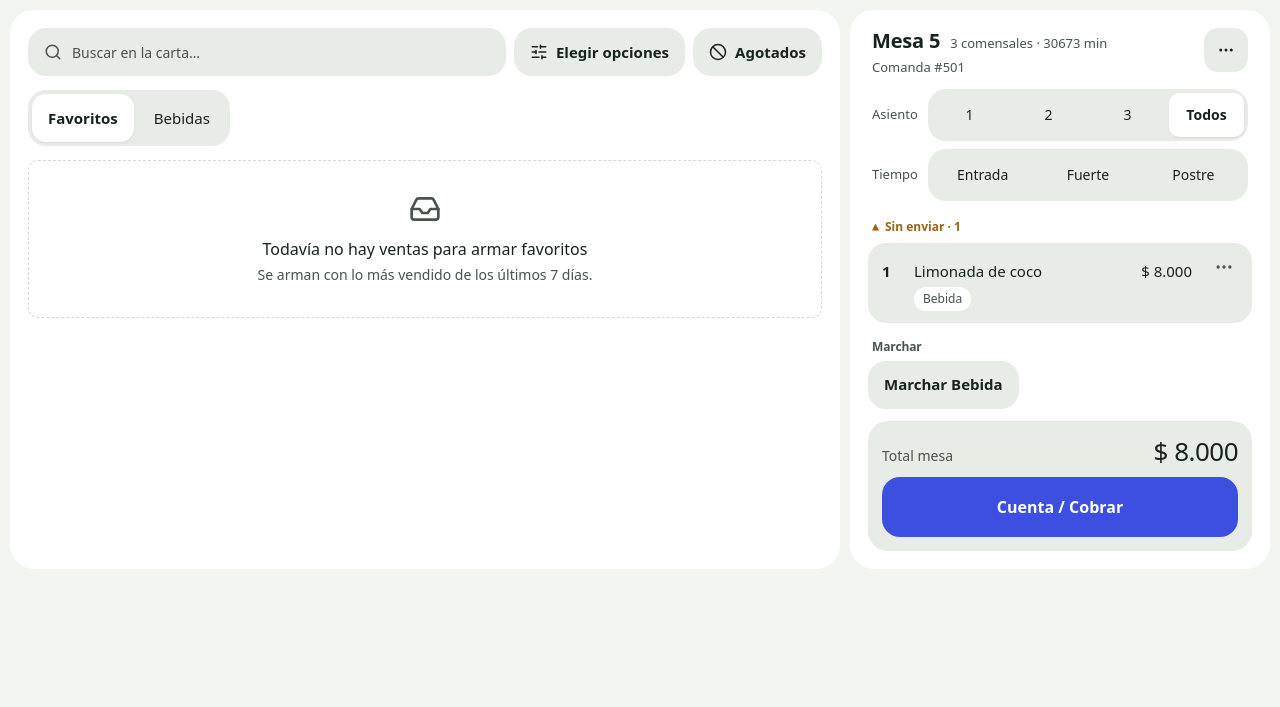
it: OrderPage › toque en la carta › con asiento y curso elegidos, el toque suma el plato a ESE asiento y curso, y la línea queda elegida
Click the button "2" at (1048, 115), box [1011,93,1086,137]
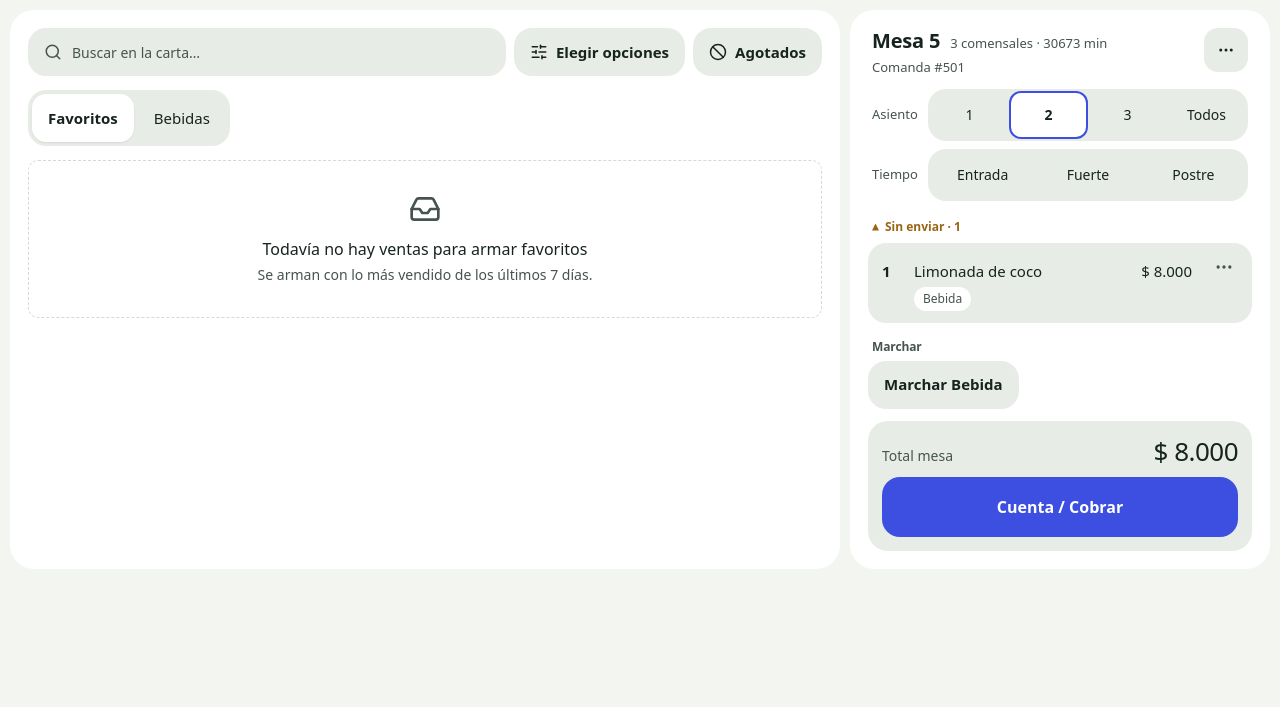
Click the button "Postre" at (1193, 175), box [1143,153,1244,197]
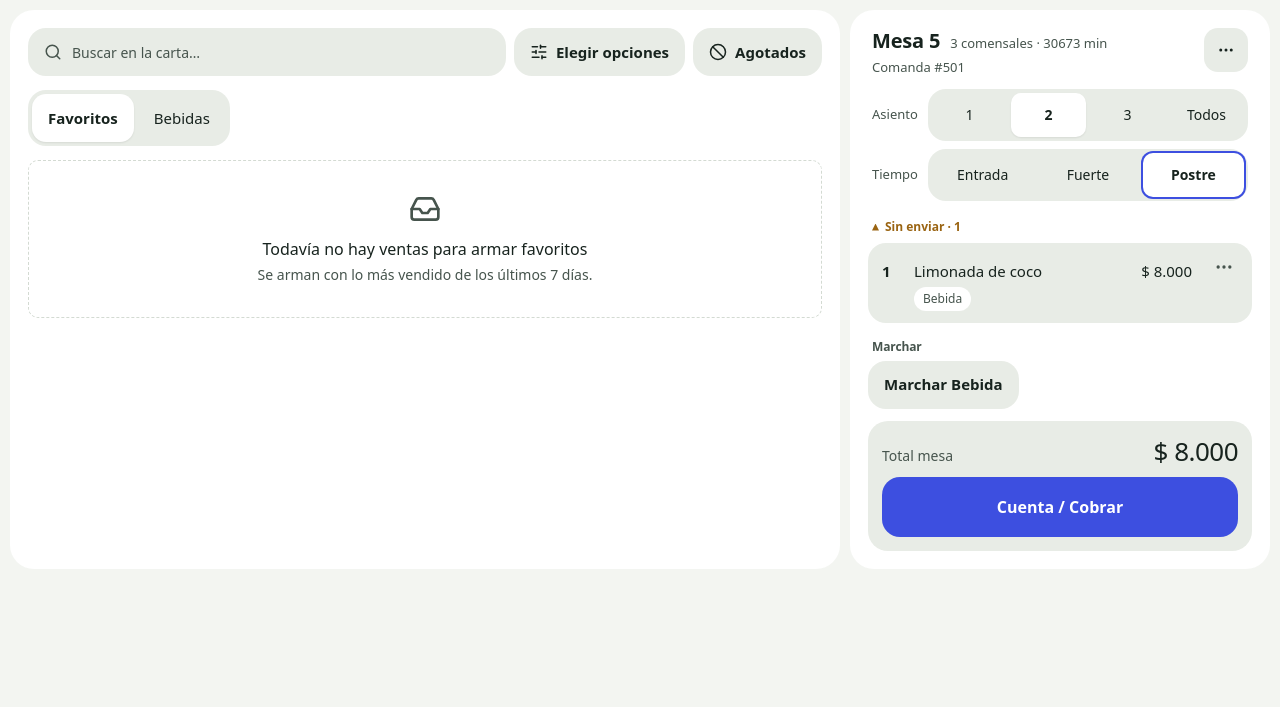
Click the button "Bebidas" at (182, 118), box [138,94,226,142]
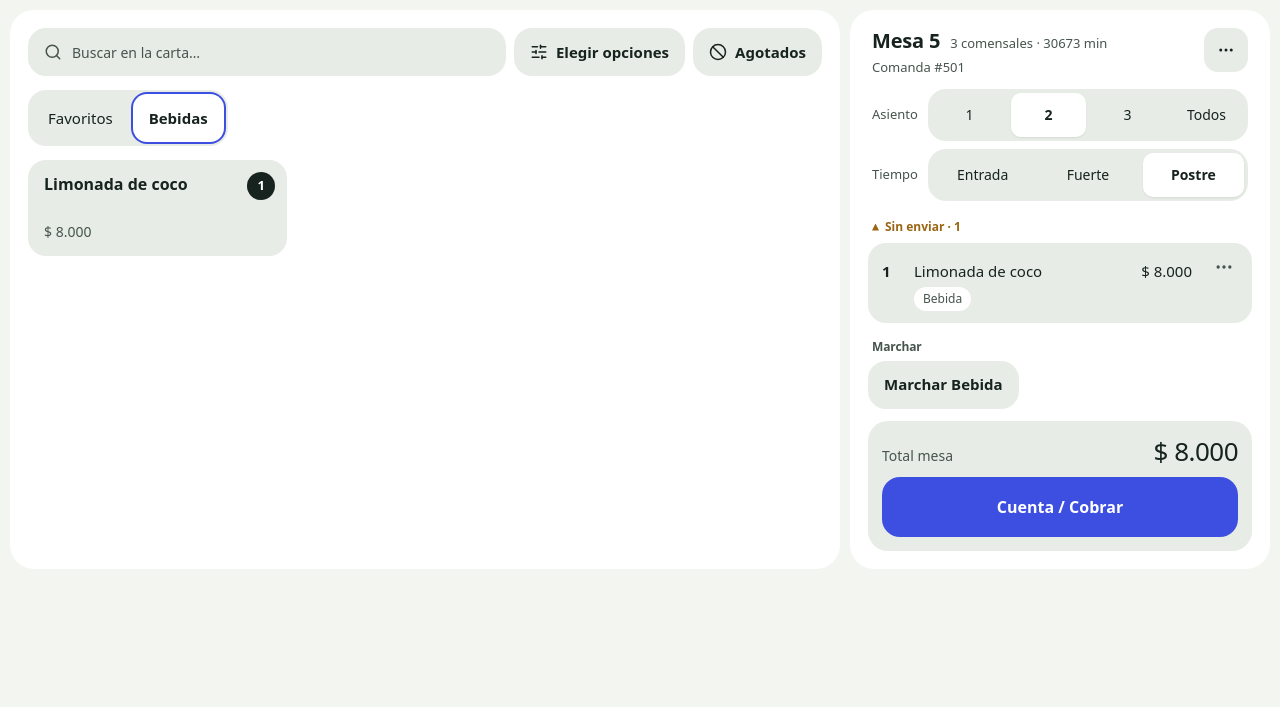
Click the button with aria-label "agregar limonada de coco" at (158, 208), box [28,160,287,256]
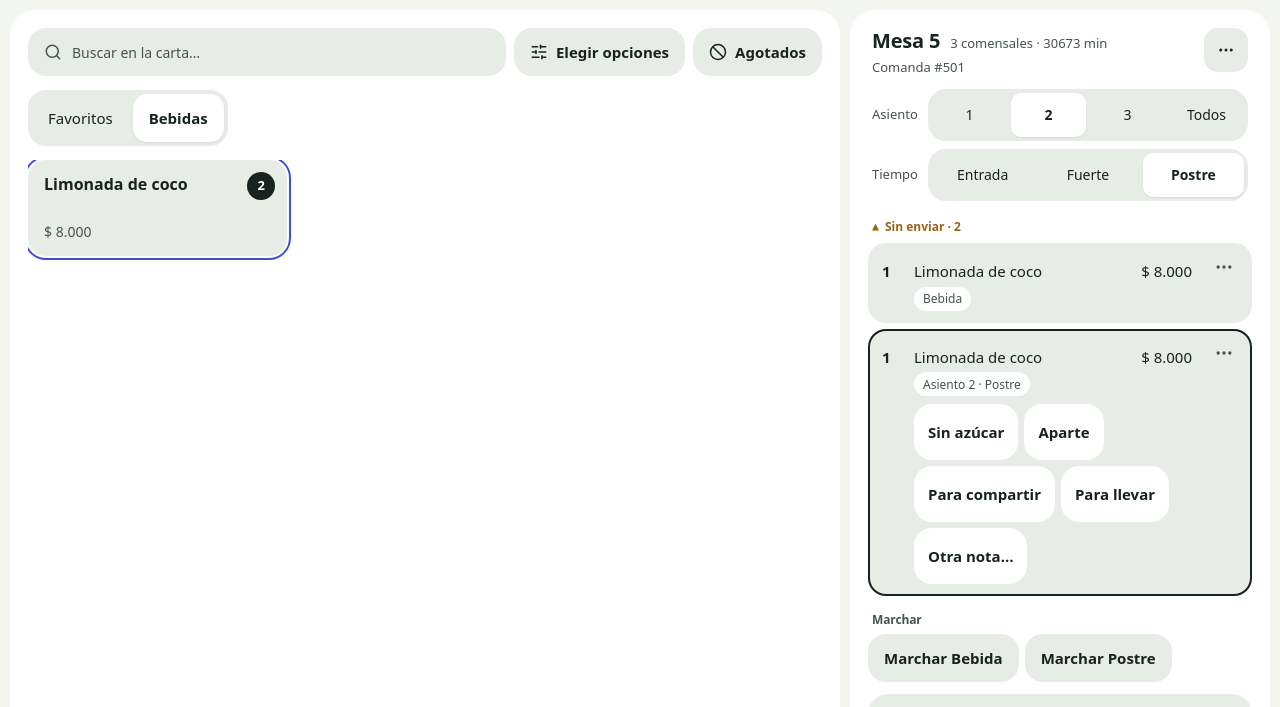
Expected: the element named "notas rápidas de limonada de coco" is shown, [914,404,1169,584]
